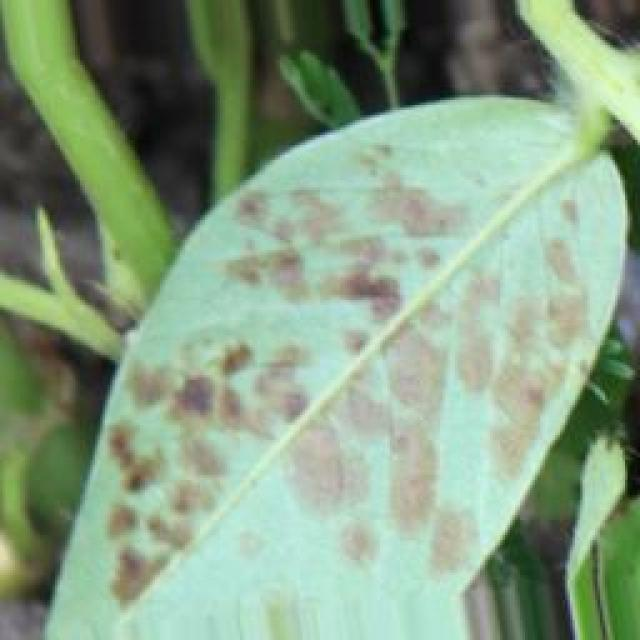Whitefly: (43, 90, 617, 620)
